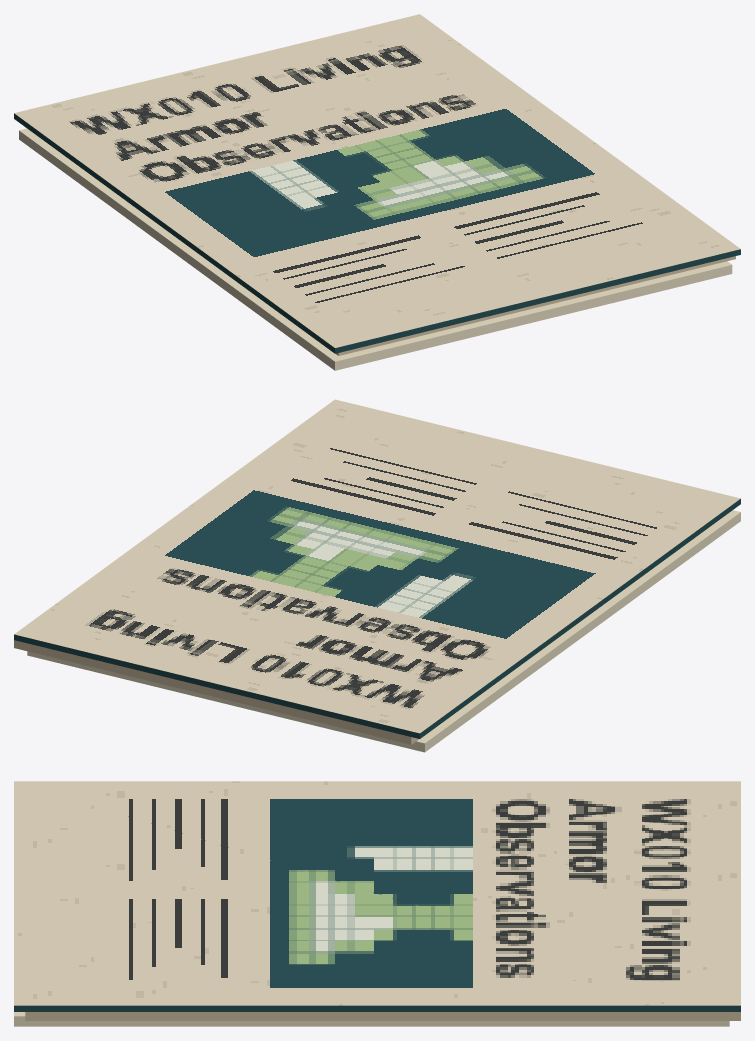
The model's file is recipe_migo_plate.glb.
3 renders of one model, top to bottom at view 1: azimuth 30°, elevation 25°; view 2: azimuth 150°, elevation 25°; view 3: azimuth 270°, elevation 25°, orthographic. The views are drawn at different scales.
Parts seen in each view (by area): view 1: block_report cover, block_offset bottom sheets, block_middle sheets; view 2: block_report cover, block_offset bottom sheets, block_middle sheets; view 3: block_report cover, block_middle sheets, block_offset bottom sheets.
Boxes of the visible parts, box(x1,y1,x2,y2) form: block_report cover: box(14, 14, 740, 353); block_offset bottom sheets: box(19, 128, 732, 370); block_middle sheets: box(336, 256, 735, 355); block_report cover: box(14, 399, 740, 738); block_offset bottom sheets: box(27, 510, 740, 752); block_middle sheets: box(14, 640, 418, 744); block_report cover: box(14, 781, 740, 1011); block_middle sheets: box(25, 1012, 740, 1020); block_offset bottom sheets: box(14, 1012, 729, 1026).
Bounding box in the file's own units: 0.1898 × 0.0101 × 0.26.
1 material, 1 textured.
